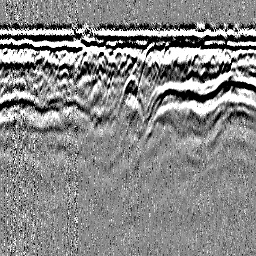cavity: (116, 72, 146, 123)
